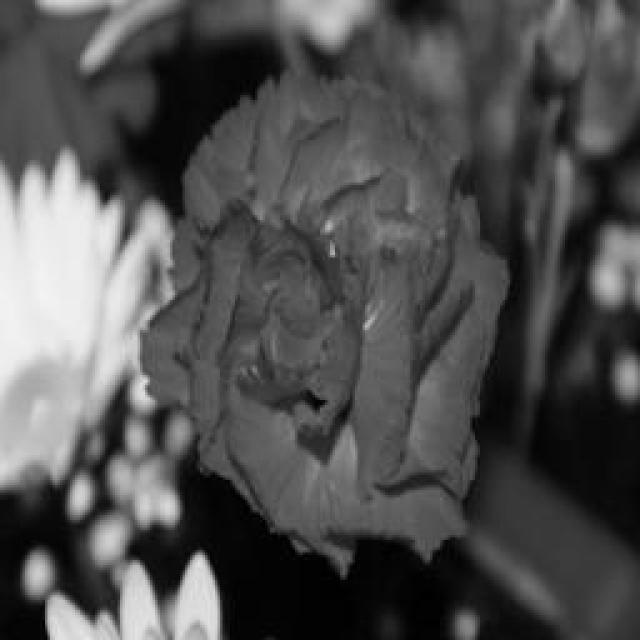carnation: (131, 61, 558, 576)
